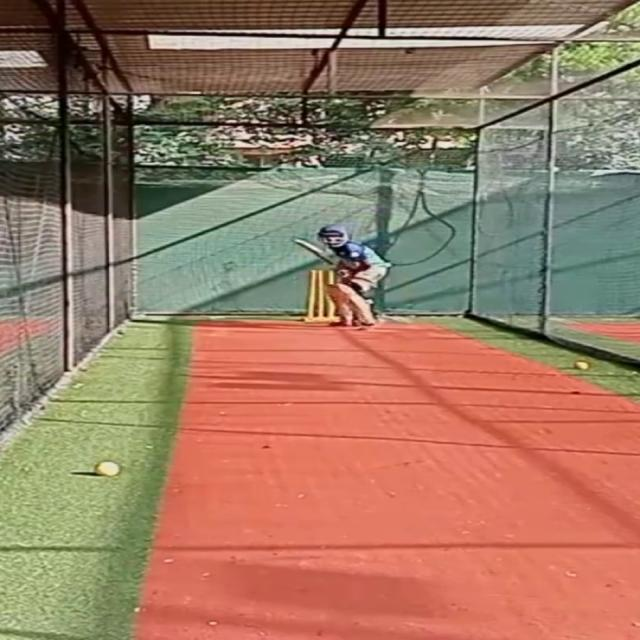ball: (89, 459, 120, 478)
stump: (304, 269, 336, 324)
